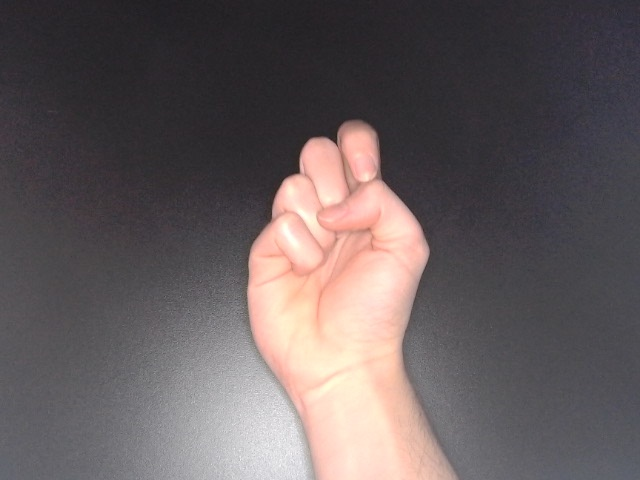s: (239, 114, 436, 423)
